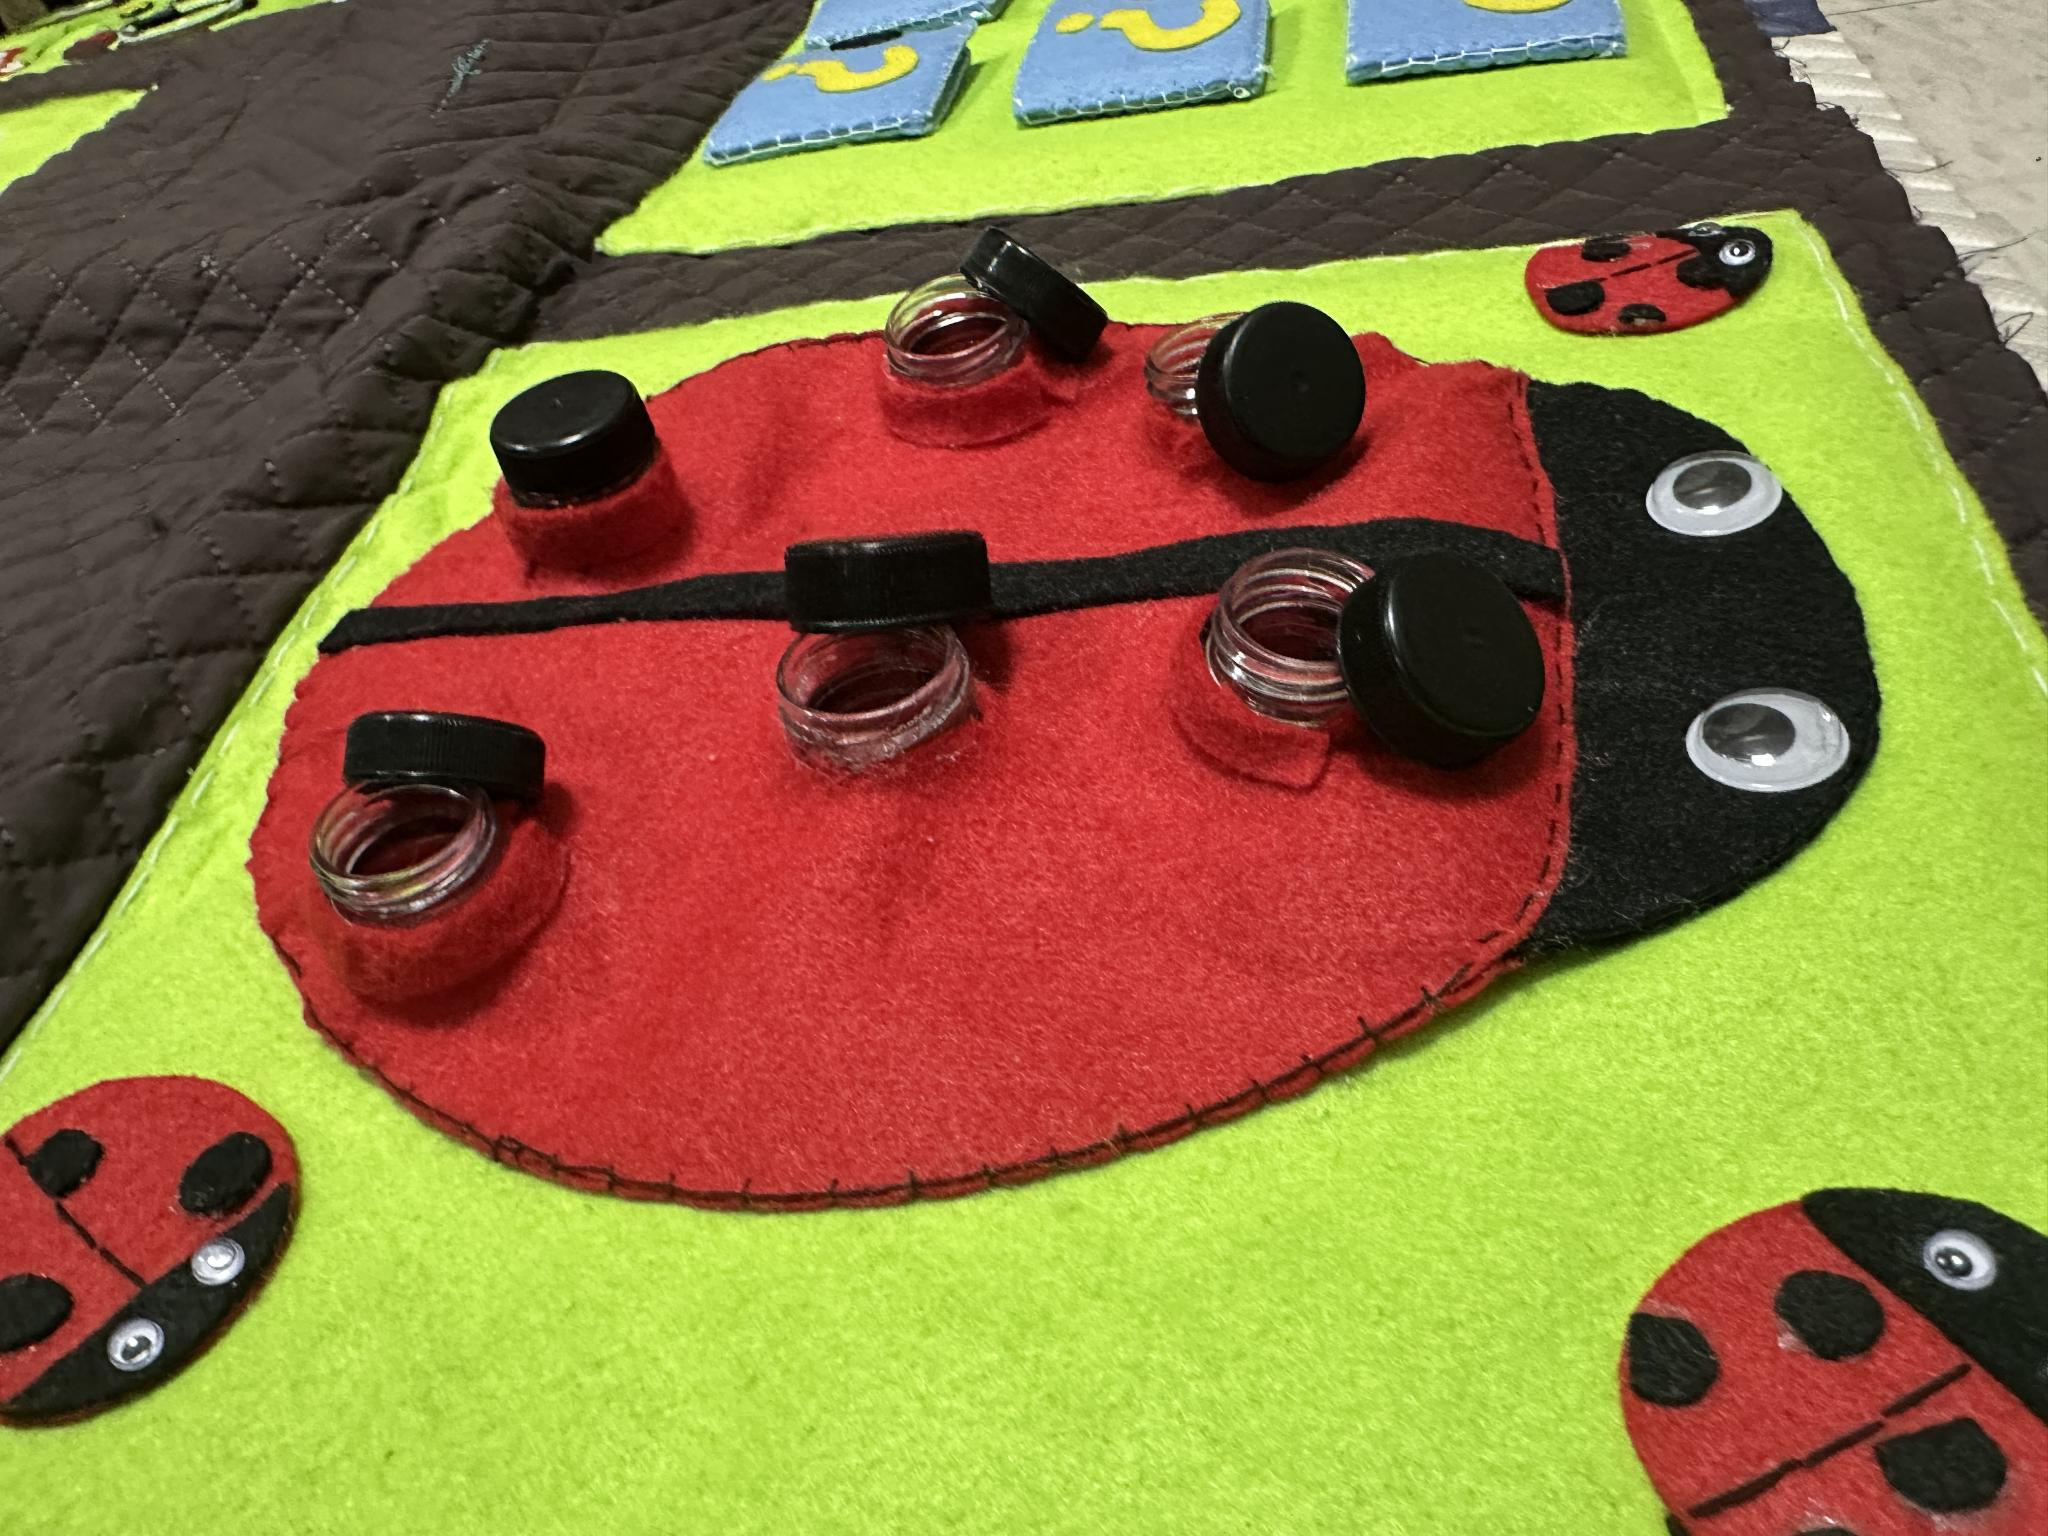cap_ng: (1193, 531, 1558, 808), (287, 694, 584, 1025), (734, 520, 1013, 805), (851, 213, 1122, 452)
cap_ok: (472, 353, 693, 595)
